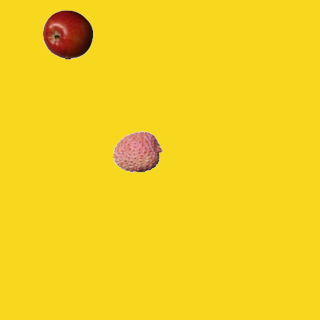Apple Braeburn: (42, 9, 92, 59)
Lychee: (112, 126, 162, 176)
